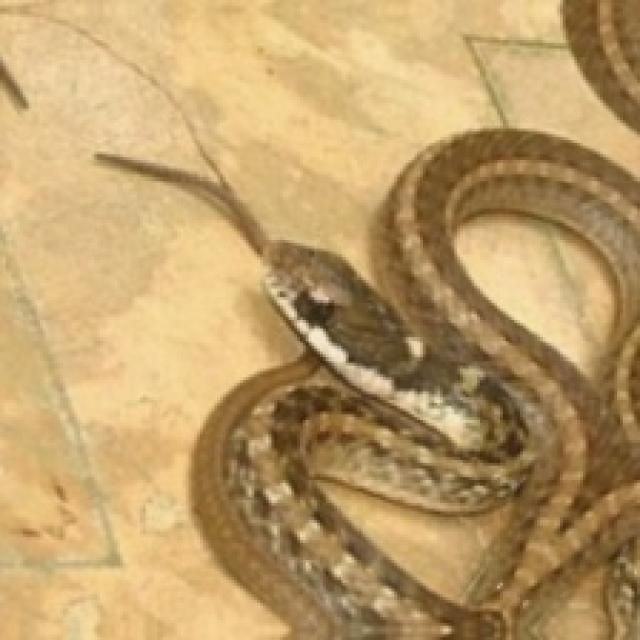boies keelback: (97, 129, 637, 637), (563, 0, 637, 129)
